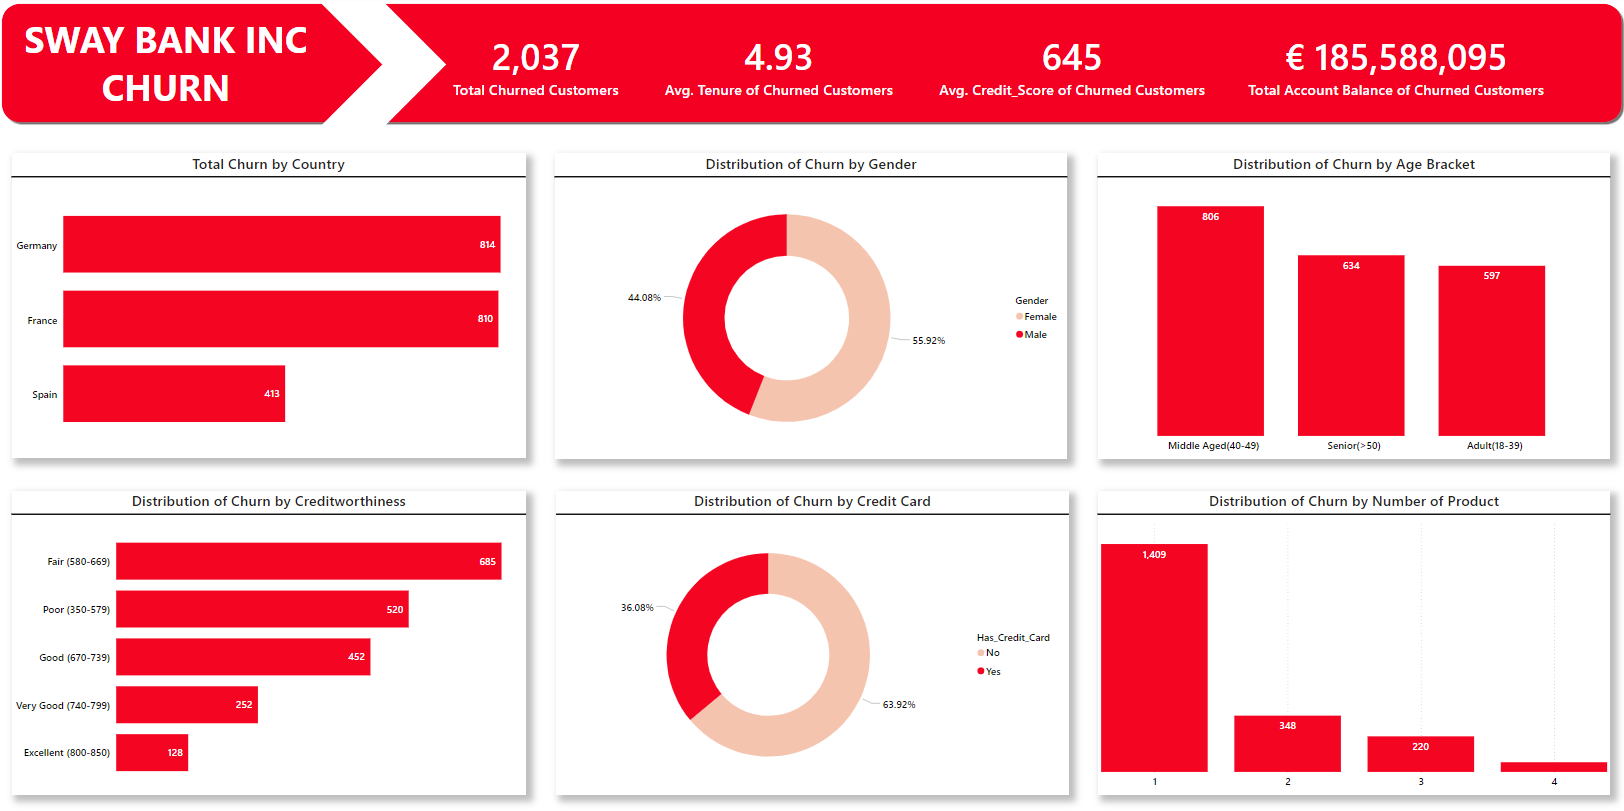

Layout of this report page (visuals, bound fields, positions):
{"tool":"powerbi","page":{"name":"CHURN","canvas":[2400,1200],"ordinal":1},"visuals":[{"type":"shape","box":[0,0,2399.3,185.8],"z":0},{"type":"textbox","box":[19.9,15.5,455.5,157],"z":1000},{"type":"shape","box":[475.4,4.4,185.8,181.3],"z":2000},{"type":"card","title":"Total Churned Customers","fields":{"Values":["Bank Churn.Number of Churn Customer"]},"box":[661.2,15.5,263.2,157],"z":3000},{"type":"card","title":"Total Churned Customers","fields":{"Values":["Bank Churn.Avg Tenure of Churned Customers"]},"box":[964.1,15.5,373.7,157],"z":4000},{"type":"card","title":"Total Churned Customers","fields":{"Values":["Bank Churn.Avg. Credit_Score of Churned Customers"]},"box":[1377.7,15.5,411.3,157],"z":5000},{"type":"card","title":"Total Churned Customers","fields":{"Values":["Bank Churn.Total Account Balance of Churned Customers"]},"box":[1828.8,15.5,464.4,157],"z":6000},{"type":"clusteredBarChart","title":"Total Churn by Country","fields":{"Category":["Bank Churn.Geography"],"Y":["Bank Churn.Number of Churn Customer"]},"box":[19.4,225.2,757.8,450.3],"z":7000},{"type":"donutChart","title":"Distribution of Churn by Gender","fields":{"Category":["Bank Churn.Gender"],"Y":["Bank Churn.Number of Churn Customer"]},"box":[820.9,225.6,756.3,451.1],"z":8000},{"type":"clusteredColumnChart","title":"Distribution of Churn by Age Bracket","fields":{"Category":["Bank Churn.Age_Bracket"],"Y":["Bank Churn.Number of Churn Customer"]},"box":[1620.9,225.6,756.3,451.1],"z":9000},{"type":"clusteredBarChart","title":"Distribution of Churn by Creditworthiness","fields":{"Category":["Bank Churn.Creditworthiness"],"Y":["Bank Churn.Number of Churn Customer"]},"box":[19.9,723.1,758.5,448.9],"z":10000},{"type":"donutChart","title":"Distribution of Churn by Credit Card","fields":{"Category":["Bank Churn.Has_Credit_Card"],"Y":["Bank Churn.Number of Churn Customer"]},"box":[821.5,723.1,756.3,448.9],"z":11000},{"type":"clusteredColumnChart","title":"Distribution of Churn by Number of Product","fields":{"Y":["Bank Churn.Number of Churn Customer"],"Category":["Bank Churn.Num_Of_Products"]},"box":[1620.9,723.1,756.3,448.9],"z":12000}]}

Visuals, with their boxes in screenshot pixels (x1, y1, x2, y2), scaled from the page's 2400x1200 canvas onto the 1624x811 screenshot:
shape: detection(0, 0, 1623, 126)
textbox: detection(13, 10, 322, 117)
shape: detection(322, 3, 447, 126)
"Total Churned Customers" card: detection(447, 10, 626, 117)
"Total Churned Customers" card: detection(652, 10, 905, 117)
"Total Churned Customers" card: detection(932, 10, 1211, 117)
"Total Churned Customers" card: detection(1237, 10, 1552, 117)
"Total Churn by Country" clusteredBarChart: detection(13, 152, 526, 457)
"Distribution of Churn by Gender" donutChart: detection(555, 152, 1067, 457)
"Distribution of Churn by Age Bracket" clusteredColumnChart: detection(1097, 152, 1609, 457)
"Distribution of Churn by Creditworthiness" clusteredBarChart: detection(13, 489, 527, 792)
"Distribution of Churn by Credit Card" donutChart: detection(556, 489, 1068, 792)
"Distribution of Churn by Number of Product" clusteredColumnChart: detection(1097, 489, 1609, 792)
